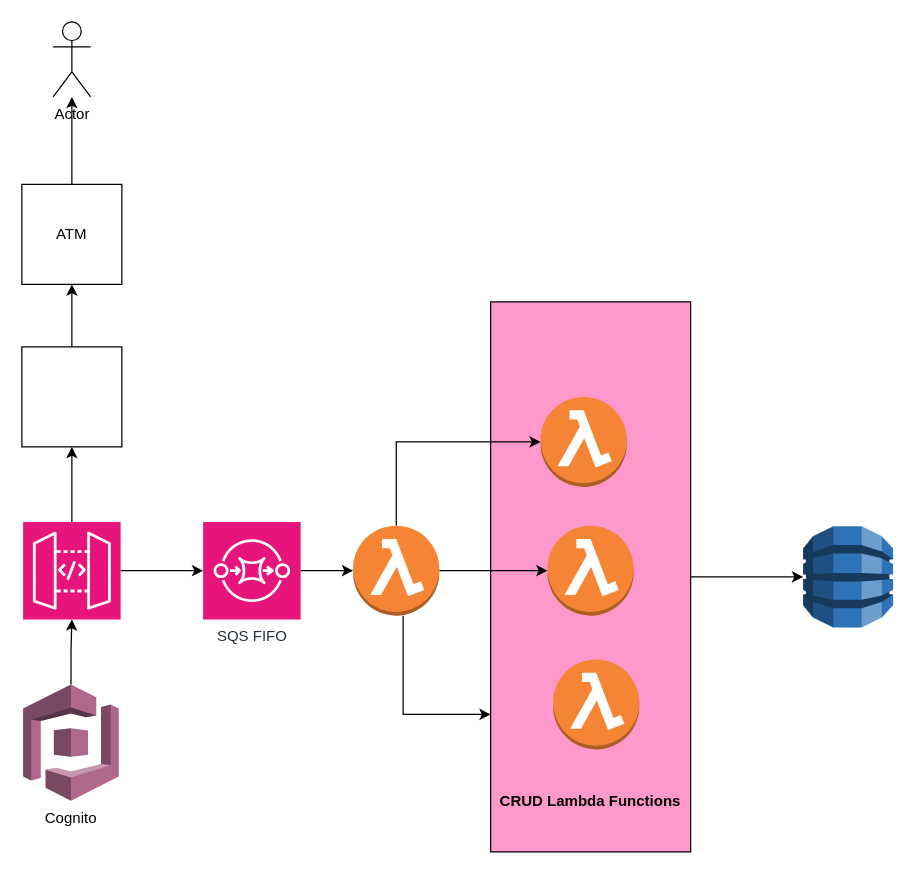
Image size: 915x874. Some labels were removed from this diagram. The centre of each missing label's shape, as x and y in pixels:
"APIGateway" belongs at point 71,570.
"ATM Network" belongs at point 71,396.
"Dynamo DB" belongs at point 847,576.
